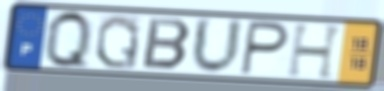B: (140, 16, 194, 72)
H: (285, 22, 347, 81)
P: (237, 19, 291, 78)
Q: (44, 8, 93, 72), (93, 13, 143, 72)
U: (189, 15, 246, 77)
